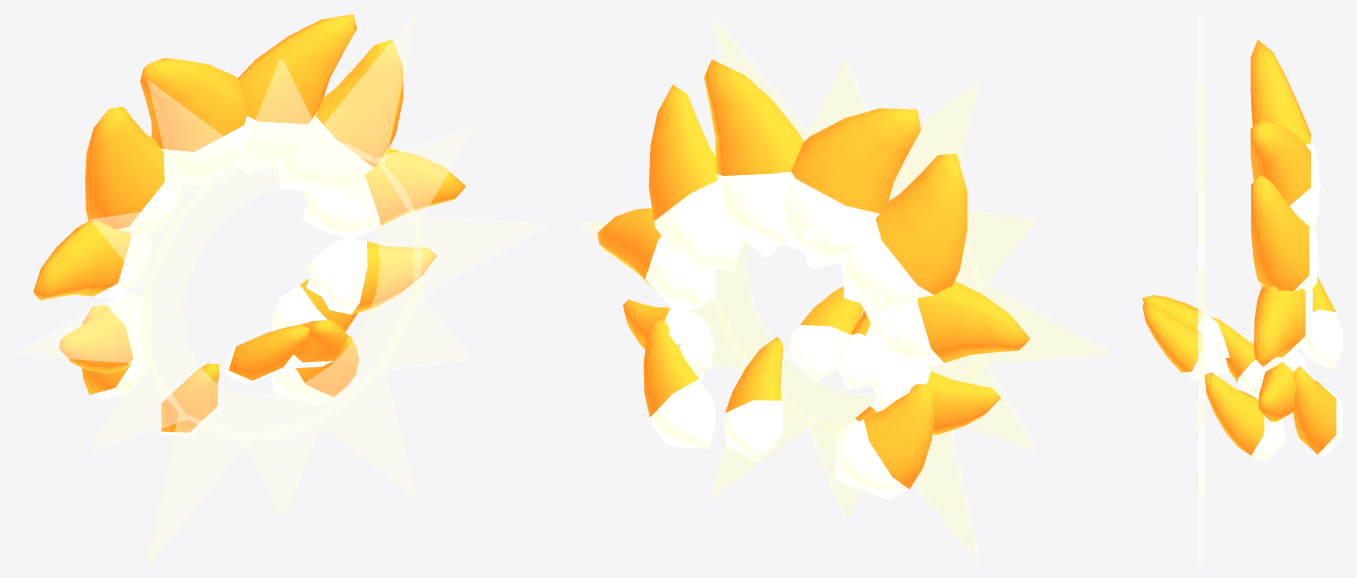
File: animal_lion_soleil_extras.fbx
3 views of the same model, side by side, from view 1: azimuth 30°, elevation 25°; view 2: azimuth 150°, elevation 25°; view 3: azimuth 270°, elevation 25° (orthographic). The views are drawn at different scales.
Visible parts, largest first — view 1: Anim_DisqueSolaire, Anim_Flamme_06, Anim_Flamme_05, Anim_Flamme_04, Anim_Flamme_03, Anim_Flamme_07, Anim_Flamme_08, Anim_Flamme_02, Anim_Flamme_01, Anim_Flamme_10, Anim_Flamme_13, Anim_Flamme_14 (+3 smaller); view 2: Anim_DisqueSolaire, Anim_Flamme_04, Anim_Flamme_03, Anim_Flamme_05, Anim_Flamme_06, Anim_Flamme_02, Anim_Flamme_12, Anim_Flamme_09, Anim_Flamme_07, Anim_Flamme_10, Anim_Flamme_01, Anim_Flamme_11 (+2 smaller); view 3: Anim_Flamme_06, Anim_Flamme_05, Anim_DisqueSolaire, Anim_Flamme_07, Anim_Flamme_10, Anim_Flamme_04, Anim_Flamme_11, Anim_Flamme_09, Anim_Flamme_12, Anim_Flamme_08, Anim_Flamme_13, Anim_Flamme_14.
Boxes of the visible parts, x1=… form: Anim_DisqueSolaire: x1=15, y1=15, x2=548, y2=563; Anim_Flamme_06: x1=278, y1=39, x2=403, y2=192; Anim_Flamme_05: x1=231, y1=14, x2=356, y2=175; Anim_Flamme_04: x1=140, y1=58, x2=246, y2=185; Anim_Flamme_03: x1=85, y1=106, x2=181, y2=237; Anim_Flamme_07: x1=299, y1=148, x2=465, y2=238; Anim_Flamme_08: x1=306, y1=237, x2=436, y2=314; Anim_Flamme_02: x1=33, y1=220, x2=151, y2=300; Anim_Flamme_01: x1=59, y1=292, x2=150, y2=373; Anim_Flamme_10: x1=271, y1=334, x2=358, y2=405; Anim_Flamme_13: x1=161, y1=363, x2=218, y2=435; Anim_Flamme_14: x1=224, y1=324, x2=309, y2=384; Anim_DisqueSolaire: x1=578, y1=14, x2=1113, y2=563; Anim_Flamme_04: x1=783, y1=108, x2=920, y2=268; Anim_Flamme_03: x1=842, y1=154, x2=967, y2=318; Anim_Flamme_05: x1=704, y1=59, x2=803, y2=258; Anim_Flamme_06: x1=648, y1=85, x2=743, y2=277; Anim_Flamme_02: x1=864, y1=281, x2=1029, y2=369; Anim_Flamme_12: x1=835, y1=384, x2=934, y2=499; Anim_Flamme_09: x1=643, y1=318, x2=715, y2=448; Anim_Flamme_07: x1=597, y1=208, x2=715, y2=310; Anim_Flamme_10: x1=725, y1=337, x2=782, y2=461; Anim_Flamme_01: x1=870, y1=364, x2=1000, y2=434; Anim_Flamme_11: x1=788, y1=286, x2=863, y2=381; Anim_Flamme_06: x1=1251, y1=174, x2=1319, y2=291; Anim_Flamme_05: x1=1250, y1=119, x2=1318, y2=228; Anim_DisqueSolaire: x1=1198, y1=14, x2=1204, y2=563; Anim_Flamme_07: x1=1254, y1=285, x2=1312, y2=366; Anim_Flamme_10: x1=1205, y1=372, x2=1286, y2=461; Anim_Flamme_04: x1=1250, y1=40, x2=1321, y2=190; Anim_Flamme_11: x1=1142, y1=304, x2=1229, y2=381; Anim_Flamme_09: x1=1293, y1=366, x2=1342, y2=457; Anim_Flamme_12: x1=1301, y1=276, x2=1342, y2=370; Anim_Flamme_08: x1=1258, y1=351, x2=1309, y2=421; Anim_Flamme_13: x1=1211, y1=317, x2=1269, y2=398; Anim_Flamme_14: x1=1142, y1=295, x2=1229, y2=357.
Size of the model in its own units: 1.6 by 1.39 by 0.5812.
